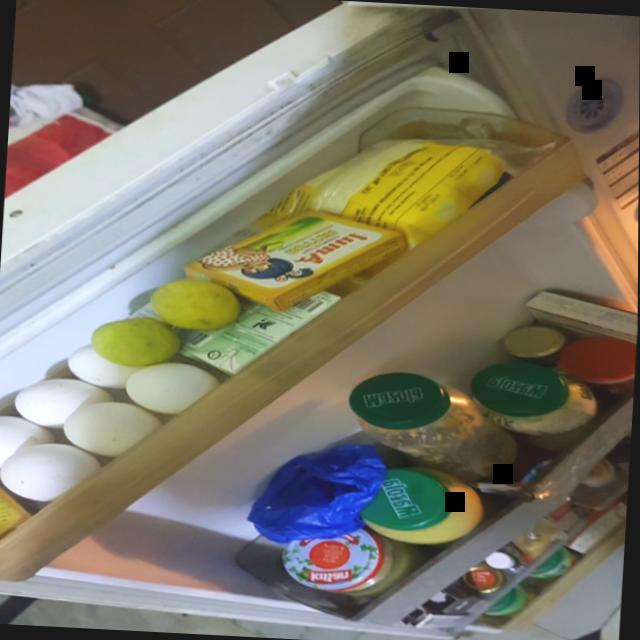butter: (190, 193, 396, 308)
eggs: (0, 436, 117, 519), (58, 393, 165, 470), (128, 357, 226, 424), (9, 370, 110, 432), (62, 335, 140, 396), (0, 413, 57, 467)
lemon: (93, 307, 181, 375), (155, 272, 242, 340)
